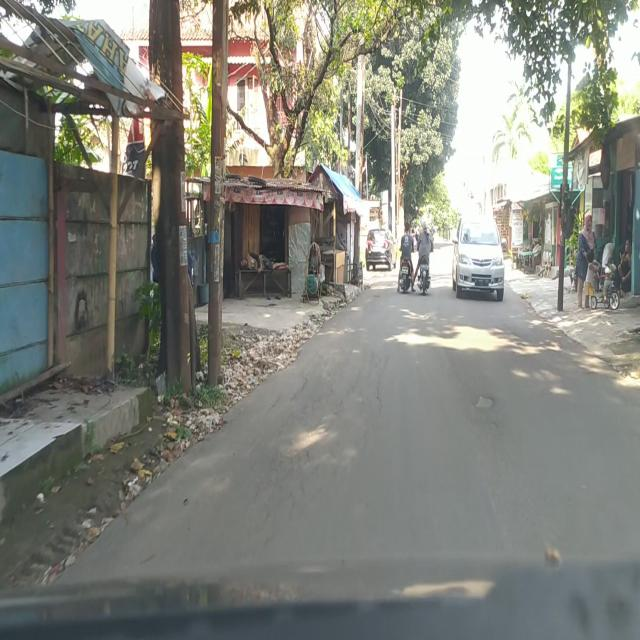Drain Hole: (259, 357, 388, 530)
